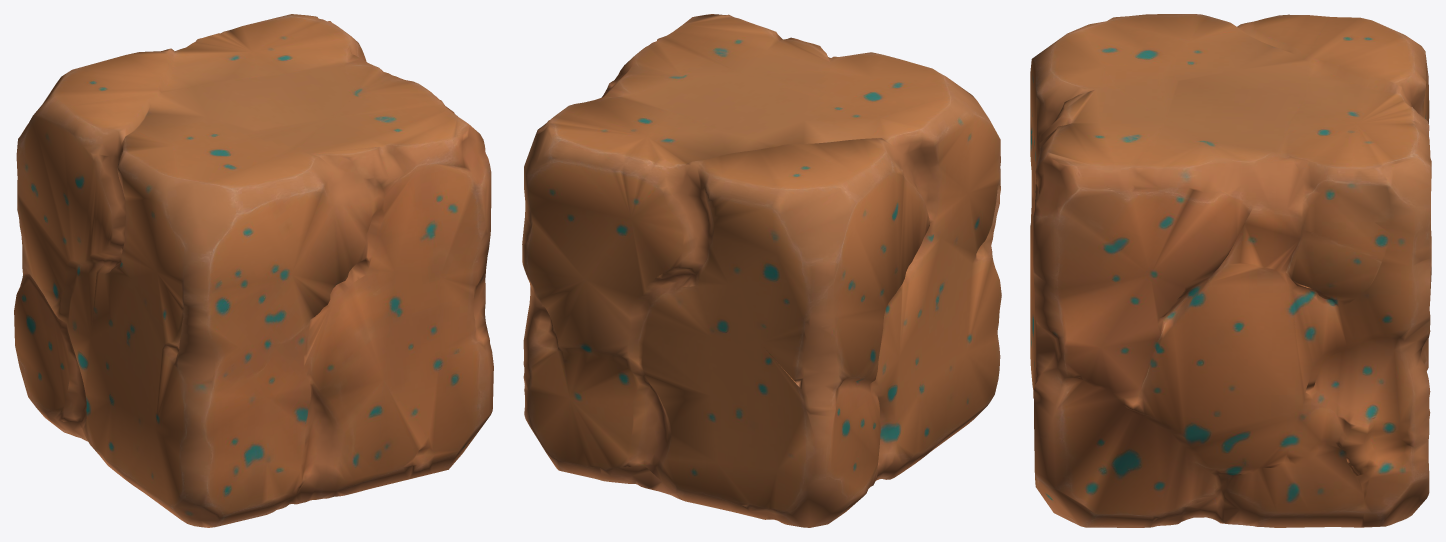
Rendered from original_glb.glb.
The picture shows the model from 3 angles, left to right: view 1: azimuth 30°, elevation 25°; view 2: azimuth 150°, elevation 25°; view 3: azimuth 270°, elevation 25°; orthographic projection. The views are drawn at different scales.
Parts seen in each view (by area): view 1: tile-16-copper-ore; view 2: tile-16-copper-ore; view 3: tile-16-copper-ore.
Boxes of the visible parts, x1,y1,x2,y2 form: tile-16-copper-ore: (14, 14, 493, 527); tile-16-copper-ore: (522, 14, 1001, 527); tile-16-copper-ore: (1030, 14, 1431, 527).
Size of the model in its own units: 0.9707 by 0.998 by 0.998.
Materials: 1 (1 with a texture image).
